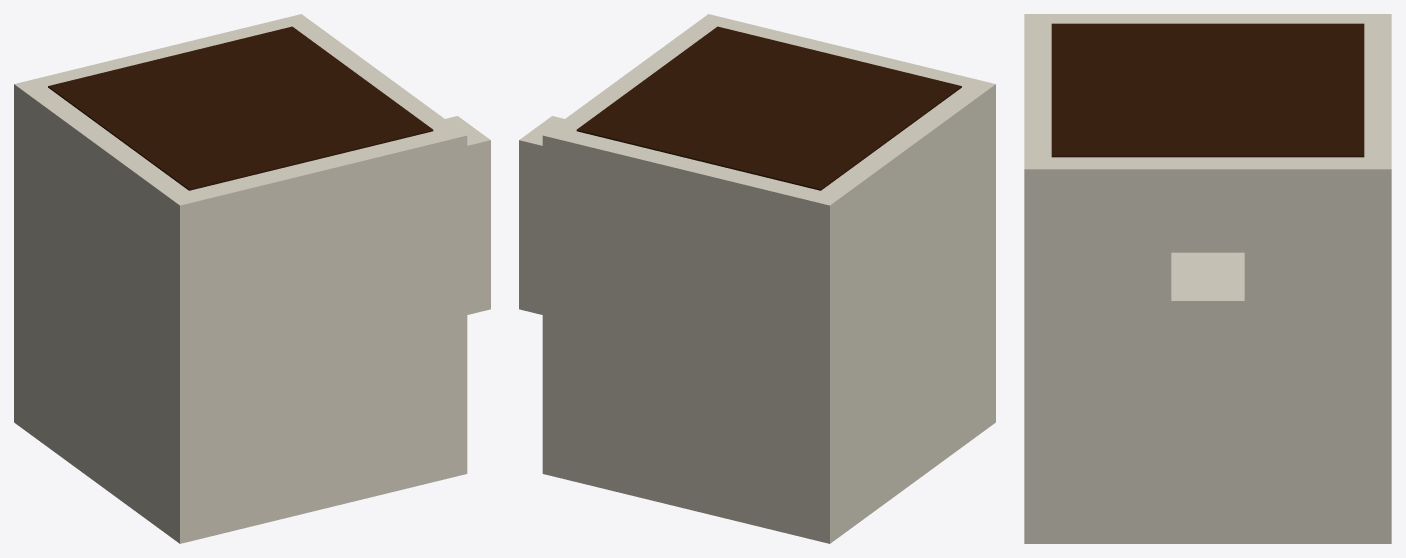
File: cup.glb
3 views of the same model, side by side, from view 1: azimuth 30°, elevation 25°; view 2: azimuth 150°, elevation 25°; view 3: azimuth 270°, elevation 25° (orthographic). The views are drawn at different scales.
Parts seen in each view (by area): view 1: prop; view 2: prop; view 3: prop.
Boxes of the visible parts, <box> form: prop: <box>14,14,490,543</box>; prop: <box>519,14,995,543</box>; prop: <box>1024,14,1391,543</box>.
Size of the model in its own units: 0.105 by 0.0905 by 0.08.
